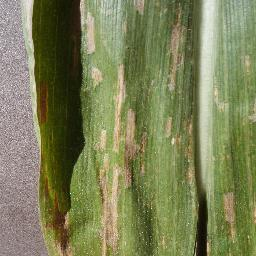Gray_Leaf_Spot: (30, 132, 70, 256), (17, 0, 50, 130), (113, 64, 138, 187), (163, 0, 192, 91), (94, 128, 114, 252), (65, 0, 97, 67), (166, 113, 196, 153), (193, 197, 213, 256), (221, 187, 242, 243), (183, 153, 196, 198), (114, 186, 123, 248), (213, 83, 230, 114), (139, 131, 147, 174), (153, 233, 172, 251), (240, 54, 254, 76), (245, 100, 256, 127), (89, 68, 103, 89), (131, 0, 147, 18)
